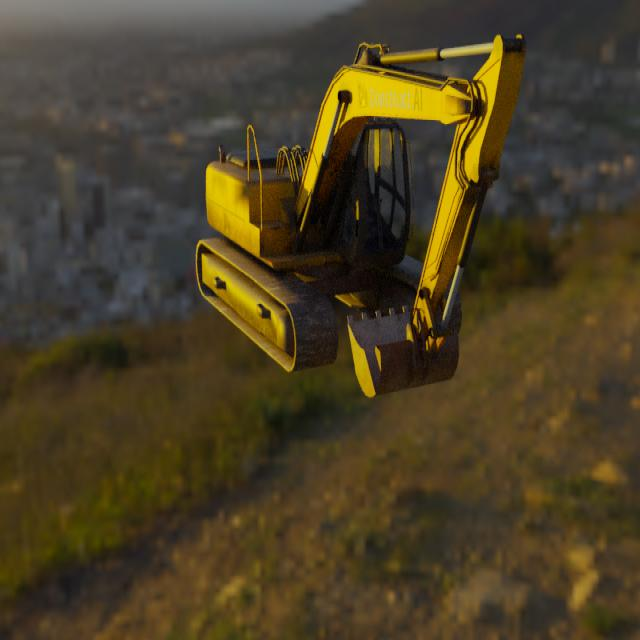excavator: (195, 34, 526, 398)
